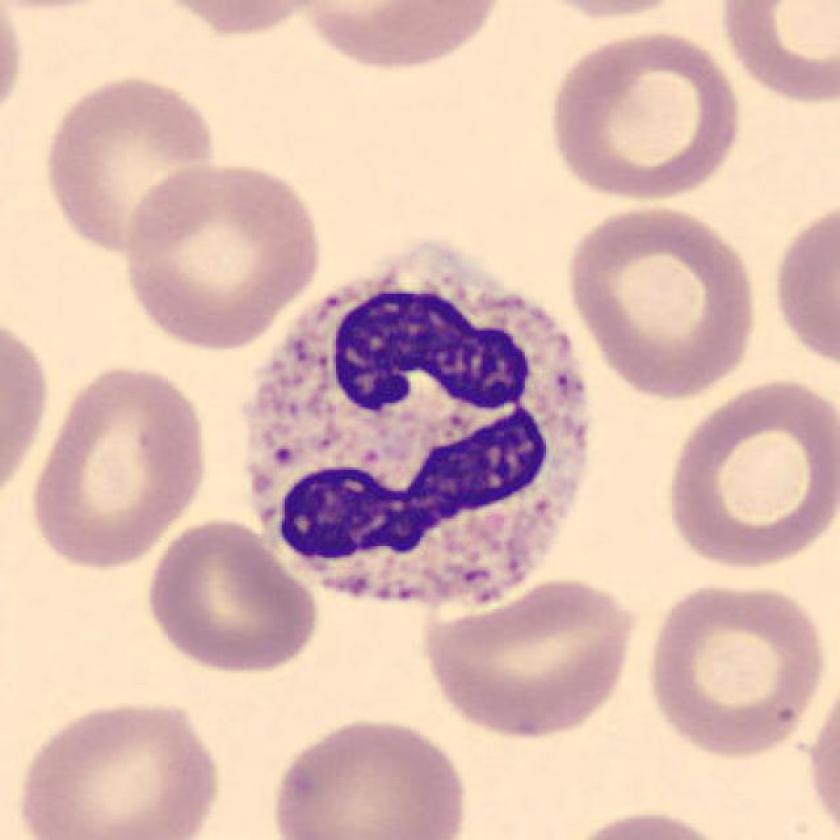neutrophil: (242, 245, 593, 602)
